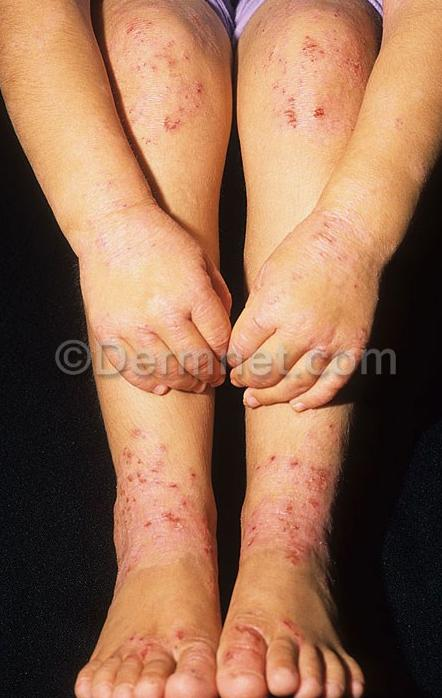Eritema 2: (112, 418, 337, 580)
excoriacion 3: (103, 420, 335, 602)
exudacion 1: (119, 618, 301, 680)
exudacion 2: (115, 444, 328, 563)
